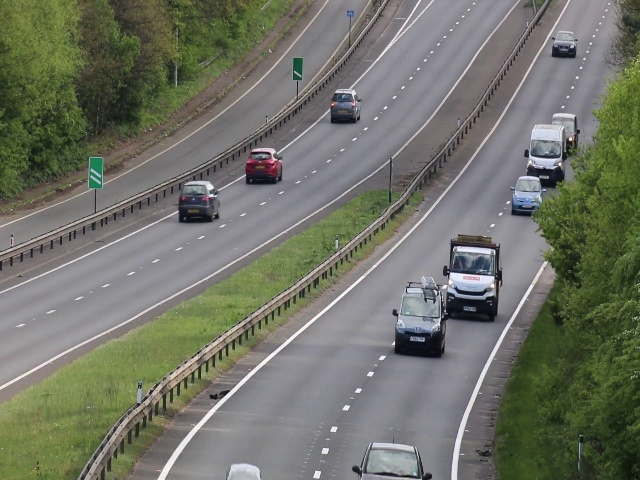car: (445, 244, 500, 318), (394, 283, 446, 356), (353, 442, 429, 480), (526, 126, 566, 181), (178, 180, 220, 223), (245, 146, 283, 185), (328, 86, 364, 122), (511, 176, 542, 212), (552, 29, 578, 59)
